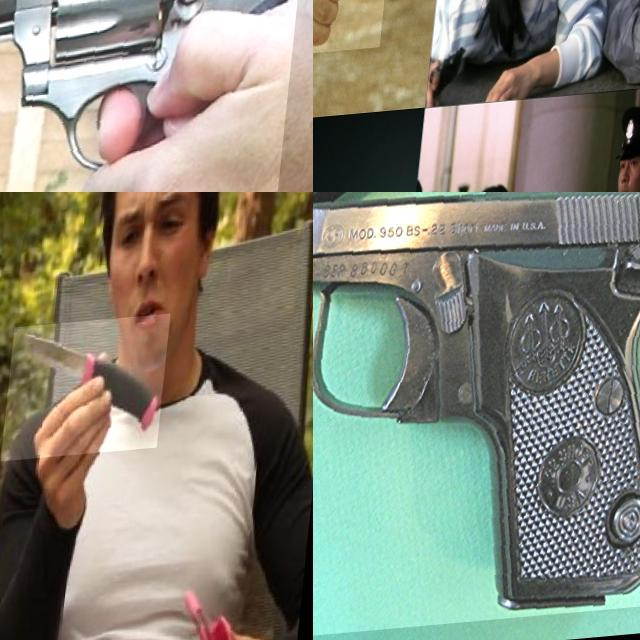-: (9, 322, 176, 468)
gun-knife-thesis - v11 Yolov5 augmented: (313, 192, 640, 640), (0, 0, 308, 192), (313, 0, 401, 102)
